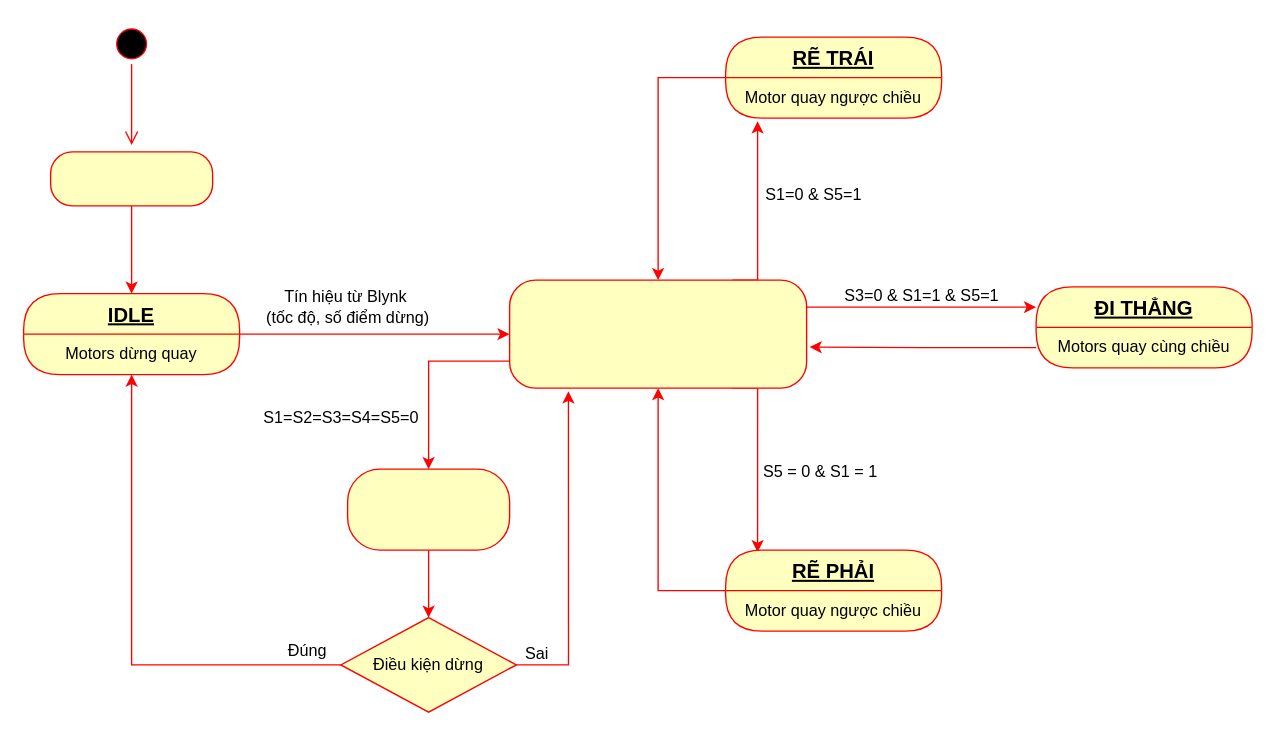
This 1276x736 diagram has some shape labels left out. Here are the shapes that lost their labels. From the top down, the centre of each, then its label:
At pixel 131 178: "Khởi tạo biến đếm".
At pixel 657 333: "ĐỌC GIÁ TRỊ CẢM BIẾN (S1, S2, S3, S4, S5)".
At pixel 428 509: "Cập nhật biến đếm".
